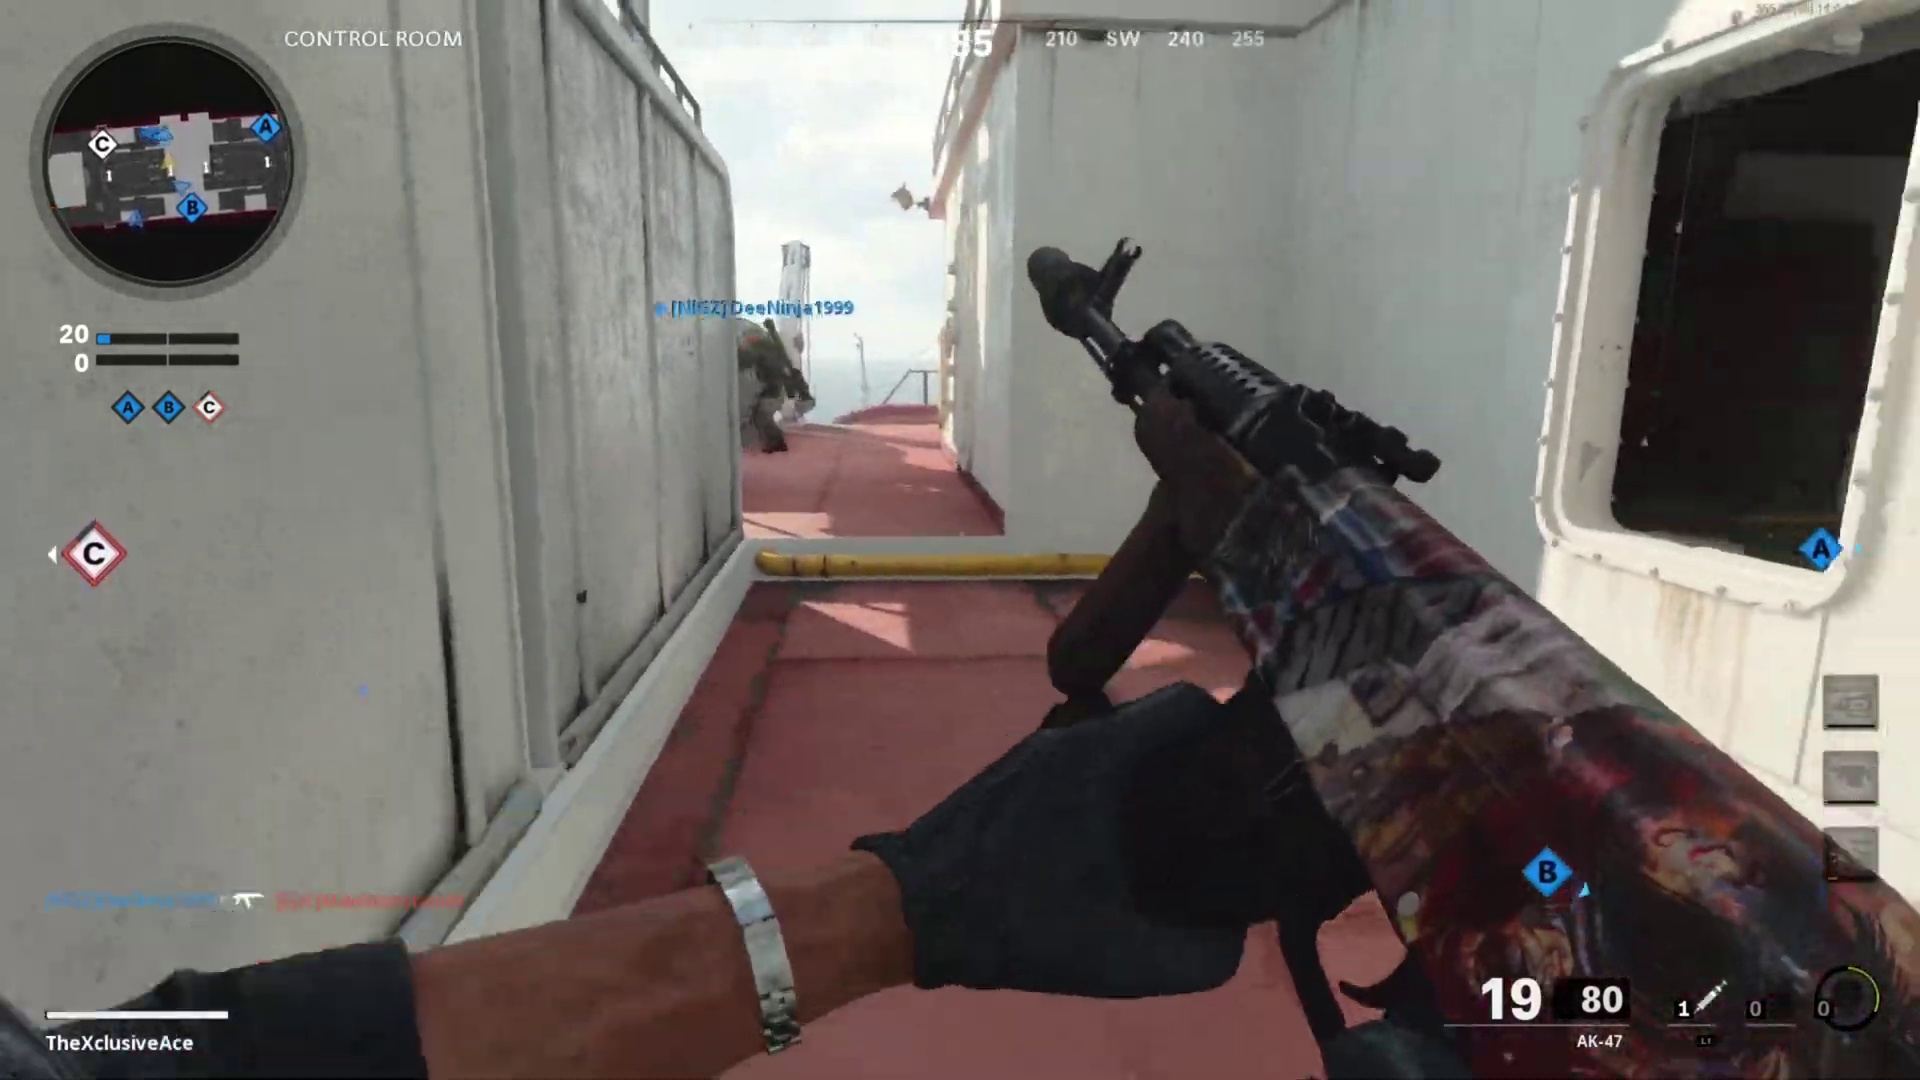head: (1522, 724, 1812, 933)
person: (738, 321, 804, 452)
